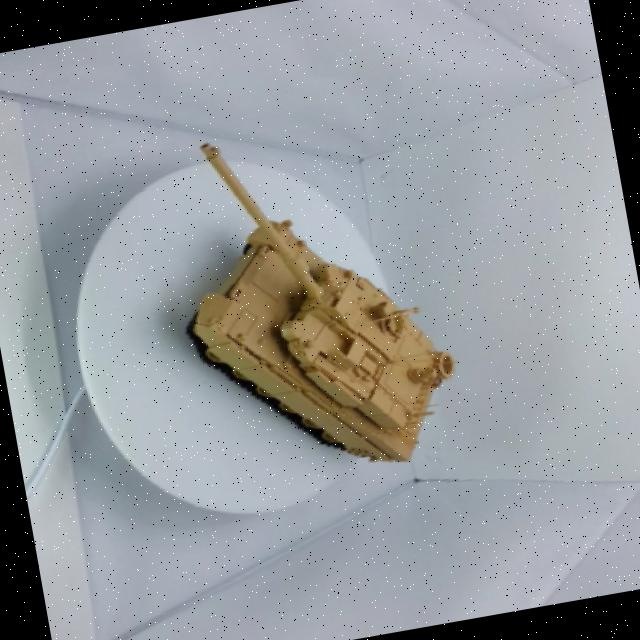korea tank: (128, 94, 496, 510)
